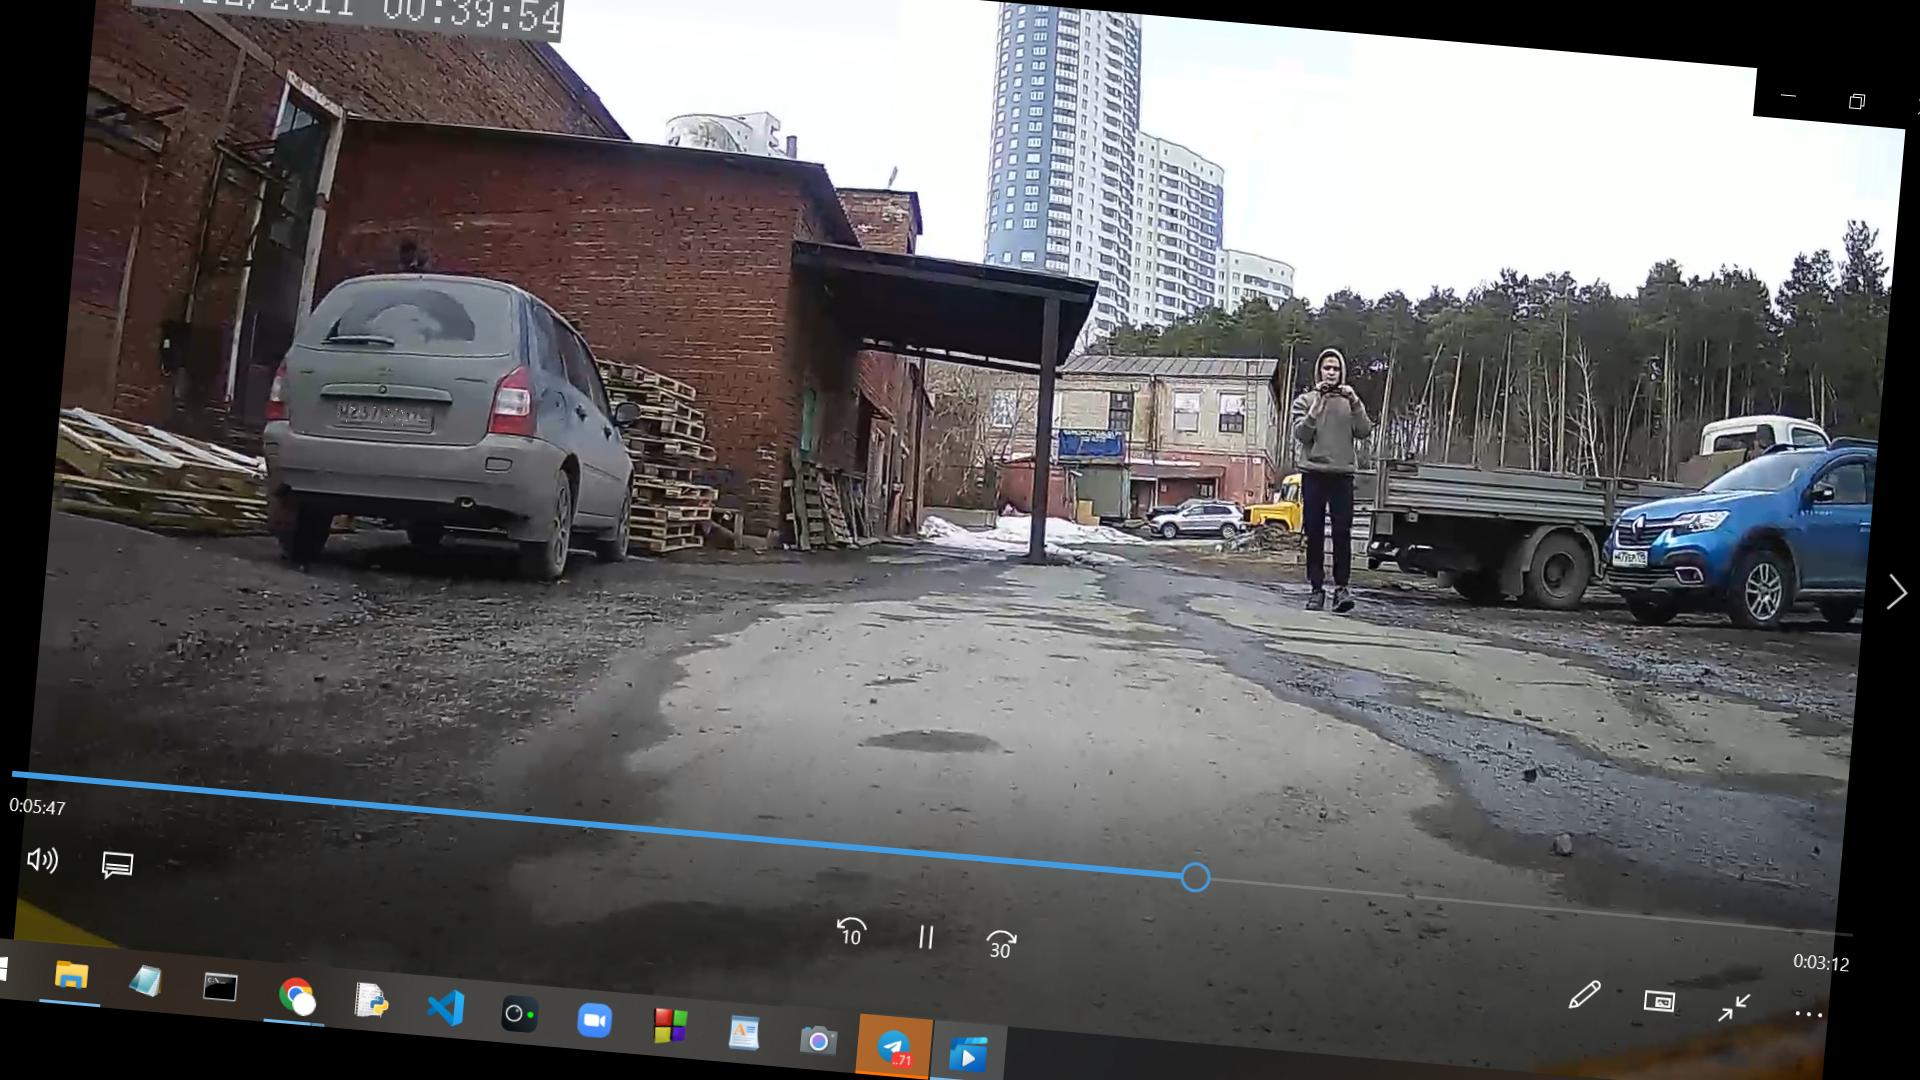plate: (339, 402, 436, 431), (1610, 551, 1648, 568)
